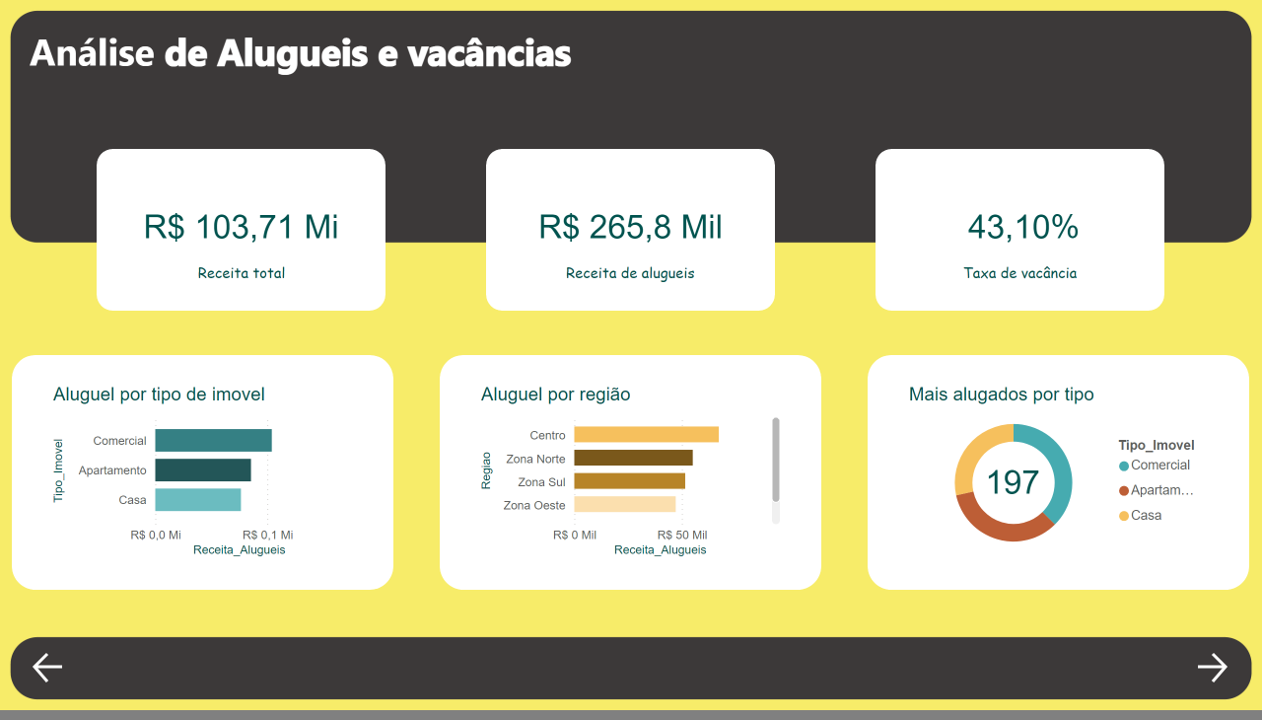

This screenshot's page, from the dashboard's own definition file:
{"tool":"powerbi","page":{"name":"Página 2","canvas":[1280,720],"ordinal":1},"visuals":[{"type":"actionButton","box":[1209,657,42,40],"z":0},{"type":"actionButton","box":[29,657,42,40],"z":1000},{"type":"shape","box":[493,151,293,164],"z":2000},{"type":"shape","box":[98,151,293,164],"z":3000},{"type":"shape","box":[888,151,293,164],"z":4000},{"type":"shape","box":[446,360,387,238],"z":5000},{"type":"card","fields":{"Values":["imobiliaria_metricas.Receita_Total"]},"box":[127,170,235,118],"z":6000},{"type":"card","title":"Total de vendas","fields":{"Values":["imobiliaria_metricas.Receita_Alugueis"]},"box":[522,170,235,118],"z":7000},{"type":"card","fields":{"Values":["imobiliaria_metricas.Taxa_Vacancia"]},"box":[921,170,235,118],"z":8000},{"type":"textbox","box":[25,21,569,63],"z":9000},{"type":"barChart","title":"Aluguel por região","fields":{"Category":["imobiliaria_metricas.Regiao"],"Y":["imobiliaria_metricas.Receita_Alugueis"]},"box":[483,389,313,180],"z":10000},{"type":"shape","box":[880,360,387,238],"z":11000},{"type":"shape","box":[12,360,387,238],"z":12000},{"type":"donutChart","title":"Mais alugados por tipo","fields":{"Category":["imobiliaria_metricas.Tipo_Imovel"],"Y":["imobiliaria_metricas.Imoveis_Mais_Alugados"]},"box":[917,389,313,180],"z":13000},{"type":"card","fields":{"Values":["imobiliaria_metricas.Volume_Alugados"]},"box":[994,468,66,40],"z":14000},{"type":"barChart","title":"Aluguel por tipo de imovel","fields":{"Category":["imobiliaria_metricas.Tipo_Imovel"],"Y":["imobiliaria_metricas.Receita_Alugueis"]},"box":[49,389,313,180],"z":15000},{"type":"textbox","box":[576,261,128,31],"z":16000},{"type":"textbox","box":[964,261,141,31],"z":17000},{"type":"textbox","box":[186,261,118,31],"z":18000}]}

Visuals, with their boxes in screenshot pixels (x1, y1, x2, y2), scaled from the page's 1280x720 canvas onto the 1262x720 screenshot:
actionButton: BBox(1192, 657, 1233, 697)
actionButton: BBox(29, 657, 70, 697)
shape: BBox(486, 151, 775, 315)
shape: BBox(97, 151, 386, 315)
shape: BBox(876, 151, 1164, 315)
shape: BBox(440, 360, 821, 598)
card - imobiliaria_metricas.Receita_Total: BBox(125, 170, 357, 288)
"Total de vendas" card: BBox(515, 170, 746, 288)
card - imobiliaria_metricas.Taxa_Vacancia: BBox(908, 170, 1140, 288)
textbox: BBox(25, 21, 586, 84)
"Aluguel por região" barChart: BBox(476, 389, 785, 569)
shape: BBox(868, 360, 1249, 598)
shape: BBox(12, 360, 393, 598)
"Mais alugados por tipo" donutChart: BBox(904, 389, 1213, 569)
card - imobiliaria_metricas.Volume_Alugados: BBox(980, 468, 1045, 508)
"Aluguel por tipo de imovel" barChart: BBox(48, 389, 357, 569)
textbox: BBox(568, 261, 694, 292)
textbox: BBox(950, 261, 1089, 292)
textbox: BBox(183, 261, 300, 292)
